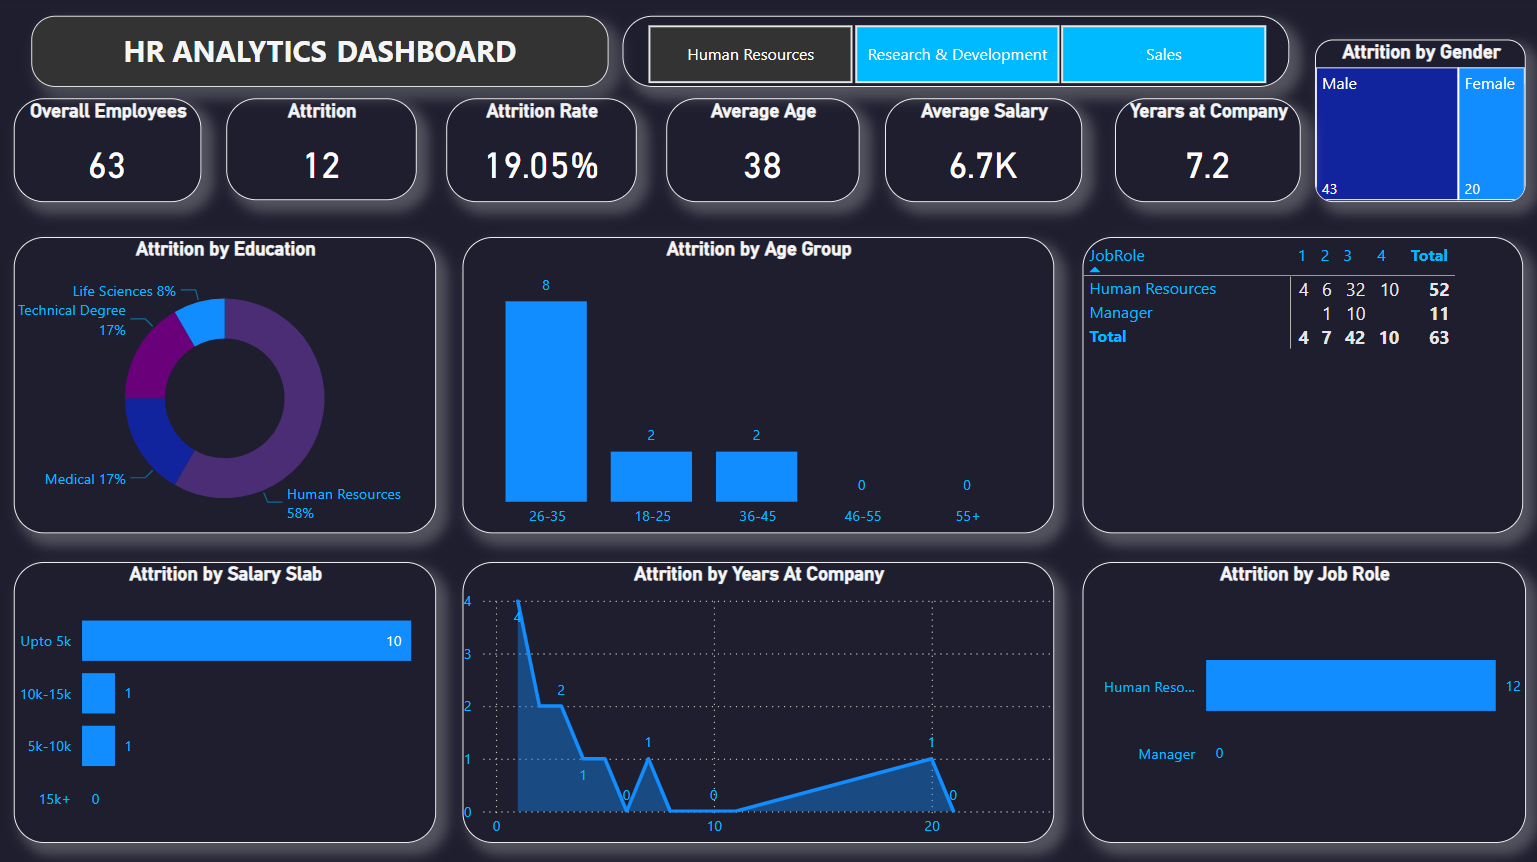

What the dashboard file says about the page in this screenshot:
{"tool":"powerbi","page":{"name":"Page 1","canvas":[1280,720],"ordinal":0},"visuals":[{"type":"cardVisual","title":"Attrition Rate","fields":{"Data":["HR_Analytics.Attrition Rate"]},"box":[370.9,83.7,158.1,86],"z":0},{"type":"cardVisual","title":"Attrition","fields":{"Data":["HR_Analytics.Attrition_Sum"]},"box":[188.4,83.7,158.1,84.9],"z":1000},{"type":"cardVisual","title":"Overall Employees","fields":{"Data":["Sum(HR_Analytics.Number of Employee)"]},"box":[11.6,83.7,155.8,86],"z":2000},{"type":"donutChart","title":"Attrition by Education","fields":{"Category":["HR_Analytics.EducationField"],"Y":["Sum(HR_Analytics.Attrition_Number)"]},"box":[11.6,200,351.2,246.5],"z":3000},{"type":"barChart","title":"Attrition by Salary Slab","fields":{"Category":["HR_Analytics.SalarySlab"],"Y":["Sum(HR_Analytics.Attrition_Number)"]},"box":[11.6,469.8,351.2,233.7],"z":4000},{"type":"barChart","title":"Attrition by Job Role","fields":{"Category":["HR_Analytics.JobRole"],"Y":["Sum(HR_Analytics.Attrition_Number)"]},"box":[900,469.8,368.6,233.7],"z":5000},{"type":"slicer","fields":{"Values":["HR_Analytics.Department"]},"box":[517.4,15.1,554.7,59.3],"z":6000},{"type":"pivotTable","fields":{"Columns":["HR_Analytics.WorkLifeBalance"],"Values":["CountNonNull(HR_Analytics.EnvironmentSatisfaction)"],"Rows":["HR_Analytics.JobRole"]},"box":[900,200,366.3,246.5],"z":7000},{"type":"columnChart","title":"Attrition by Age Group","fields":{"Y":["Sum(HR_Analytics.Attrition_Number)"],"Category":["HR_Analytics.AgeGroup"]},"box":[384.9,200,491.9,246.5],"z":8000},{"type":"areaChart","title":"Attrition by Years At Company","fields":{"Y":["Sum(HR_Analytics.Attrition_Number)"],"Category":["HR_Analytics.YearsAtCompany"]},"box":[384.9,469.8,491.9,233.7],"z":9000},{"type":"treemap","title":"Attrition by Gender","fields":{"Details":["HR_Analytics.Gender"],"Values":["CountNonNull(HR_Analytics.EmpID)"]},"box":[1093,34.9,175.6,134.9],"z":10000},{"type":"cardVisual","title":"Average Age","fields":{"Data":["Avg(HR_Analytics.Age)"]},"box":[553.5,83.7,160.5,86],"z":11000},{"type":"cardVisual","title":"Average Salary","fields":{"Data":["HR_Analytics.AvgSalary"]},"box":[736,83.7,164,86],"z":12000},{"type":"cardVisual","title":"Yerars at Company","fields":{"Data":["Avg(HR_Analytics.YearsAtCompany)"]},"box":[926.7,83.7,154.7,86],"z":13000},{"type":"textbox","box":[25.6,15.1,480.2,59.3],"z":14000}]}

Visuals, with their boxes in screenshot pixels (x1, y1, x2, y2), scaled from the page's 1280x720 canvas onto the 1537x862 screenshot:
"Attrition Rate" cardVisual: select_region(445, 100, 635, 203)
"Attrition" cardVisual: select_region(226, 100, 416, 202)
"Overall Employees" cardVisual: select_region(14, 100, 201, 203)
"Attrition by Education" donutChart: select_region(14, 239, 436, 535)
"Attrition by Salary Slab" barChart: select_region(14, 562, 436, 842)
"Attrition by Job Role" barChart: select_region(1081, 562, 1523, 842)
slicer - HR_Analytics.Department: select_region(621, 18, 1287, 89)
pivotTable - HR_Analytics.WorkLifeBalance x CountNonNull(HR_Analytics.EnvironmentSatisfaction): select_region(1081, 239, 1521, 535)
"Attrition by Age Group" columnChart: select_region(462, 239, 1053, 535)
"Attrition by Years At Company" areaChart: select_region(462, 562, 1053, 842)
"Attrition by Gender" treemap: select_region(1312, 42, 1523, 203)
"Average Age" cardVisual: select_region(665, 100, 857, 203)
"Average Salary" cardVisual: select_region(884, 100, 1081, 203)
"Yerars at Company" cardVisual: select_region(1113, 100, 1299, 203)
textbox: select_region(31, 18, 607, 89)
